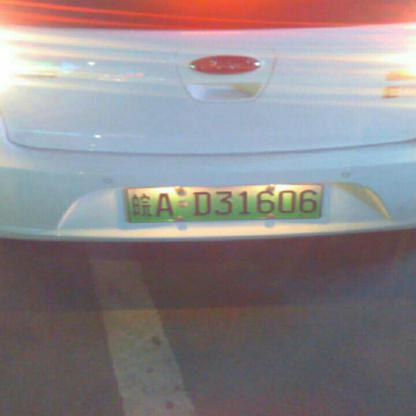lp: (125, 184, 321, 222)
